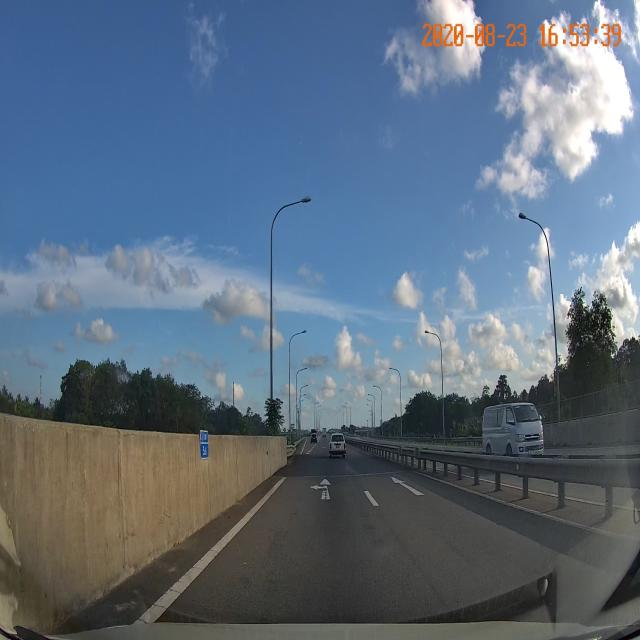forward_lft: (248, 475, 386, 507)
